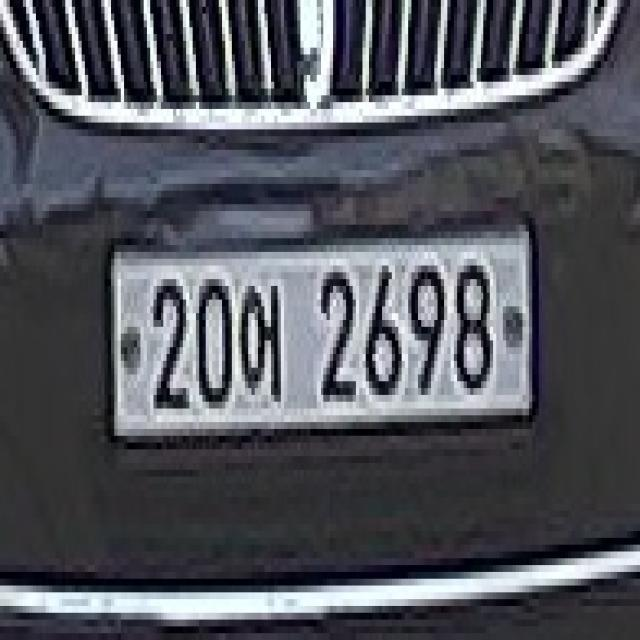plat: (106, 216, 539, 442)
